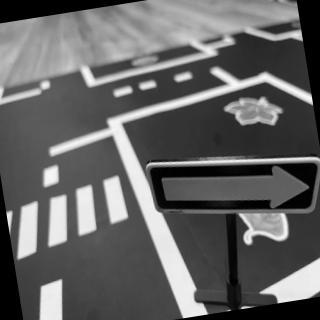road_crosswalk: (4, 170, 137, 267)
sign_oneway_right: (147, 137, 320, 241)
